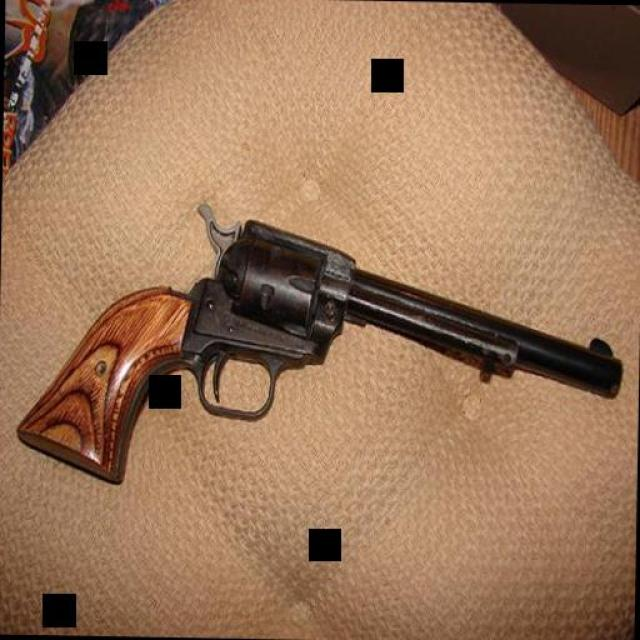gun: (6, 196, 625, 494)
